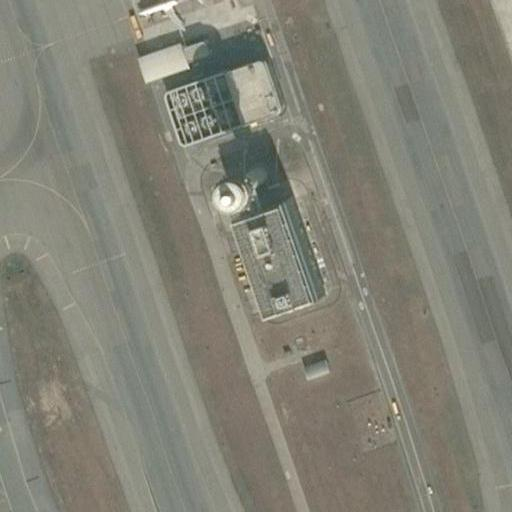Aircraft: (132, 0, 201, 35)
